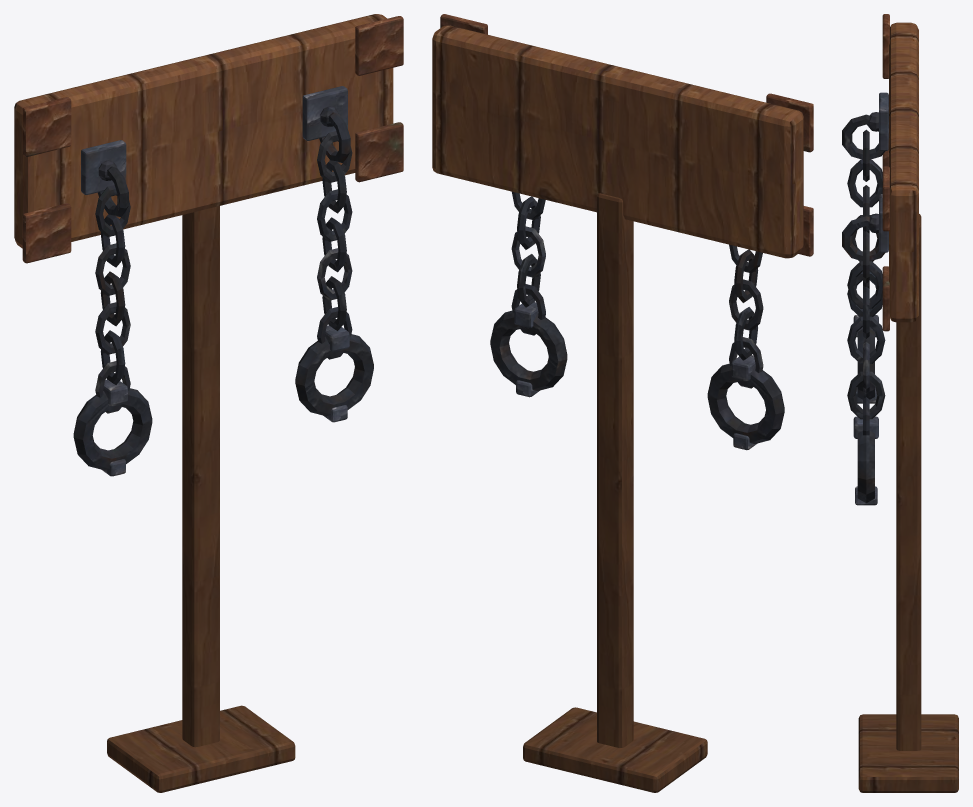
Rendered from wall_shackles.glb.
3 views of the same model, side by side, from view 1: azimuth 30°, elevation 25°; view 2: azimuth 150°, elevation 25°; view 3: azimuth 270°, elevation 25° (orthographic). The views are drawn at different scales.
Visible parts, largest first — view 1: model; view 2: model; view 3: model.
Part boxes in pixels (x1,y1,x2,y2): model: (14,14,403,792); model: (432,14,813,792); model: (842,14,958,792).
Bounding box in the file's own units: 0.82 × 1.46 × 0.2335.
Materials: 5 (5 with a texture image).
